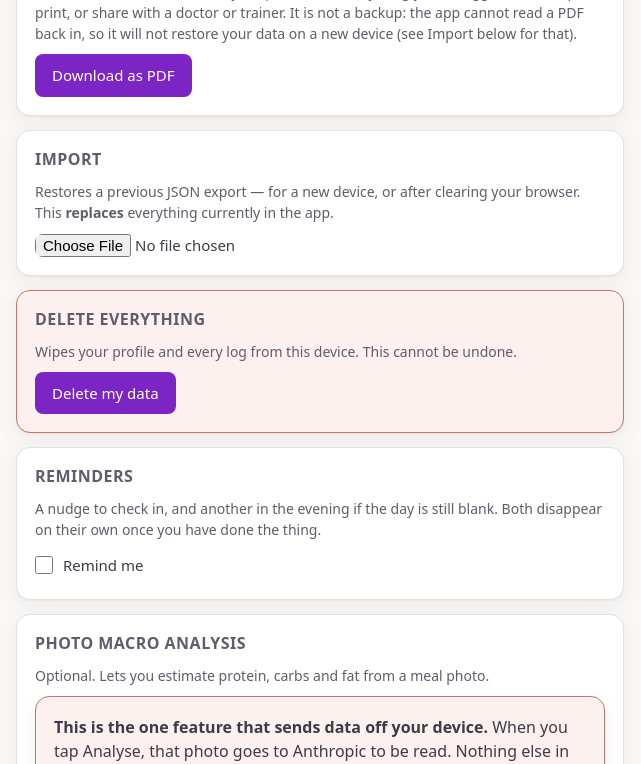
Test: Settings — deleting everything › backs out safely on cancel
(page scrolled)
Click the button "Delete my data" at (105, 393), box [35, 372, 176, 414]
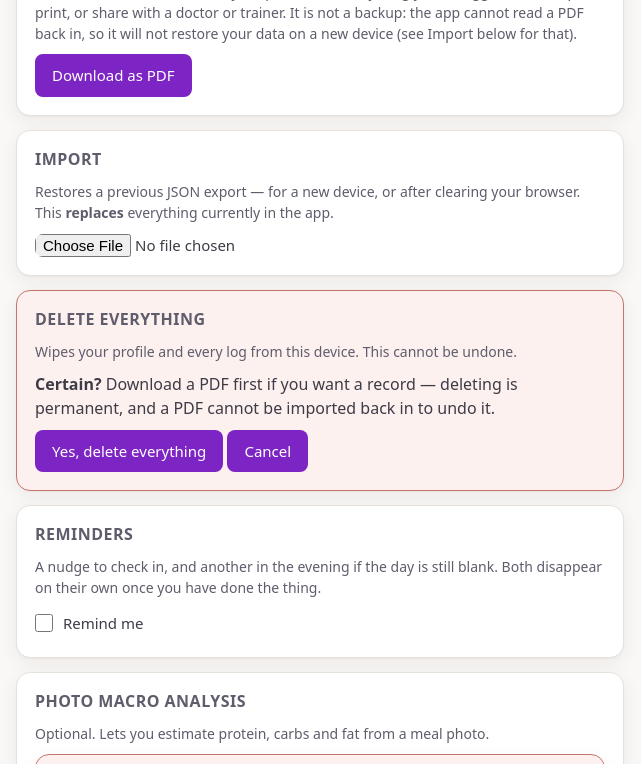
Click the button "Cancel" at (268, 451), box [227, 430, 308, 472]
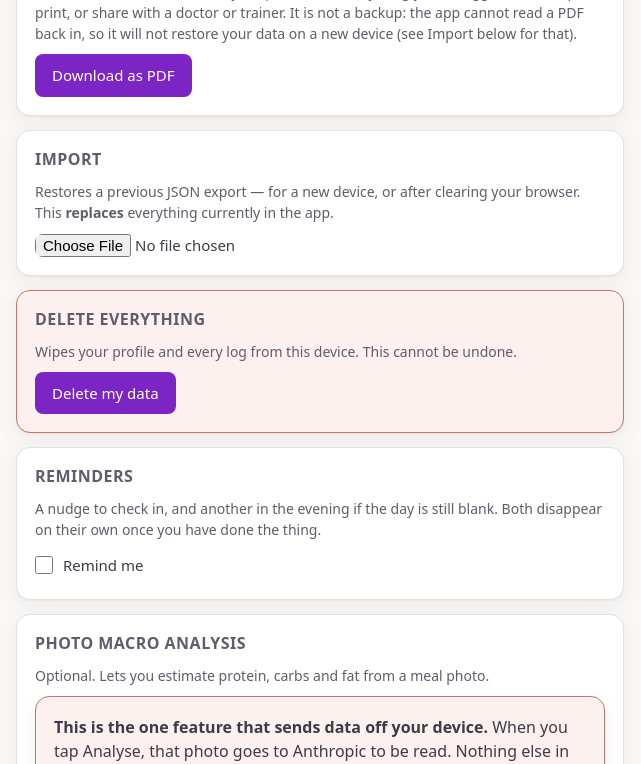
Expected: the button "Delete my data" is shown, [35, 372, 176, 414]
